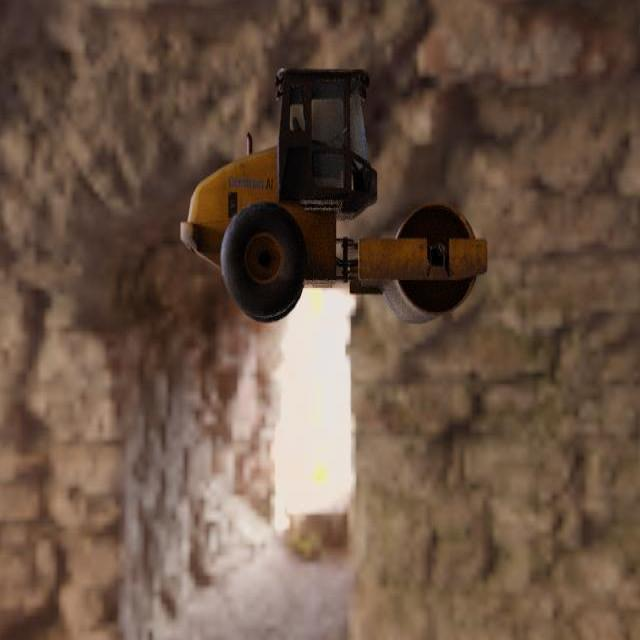Roller: (180, 68, 487, 324)
